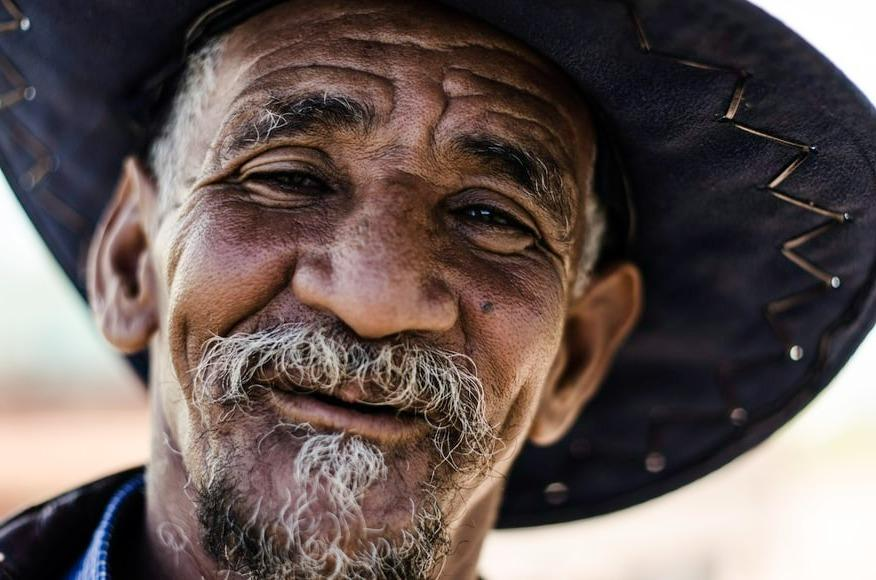Wrinkles: (448, 67, 573, 125), (490, 109, 570, 155), (256, 64, 395, 87), (347, 36, 442, 53), (536, 243, 567, 280), (432, 96, 449, 142), (451, 87, 496, 97), (389, 79, 396, 116), (442, 67, 445, 98)
